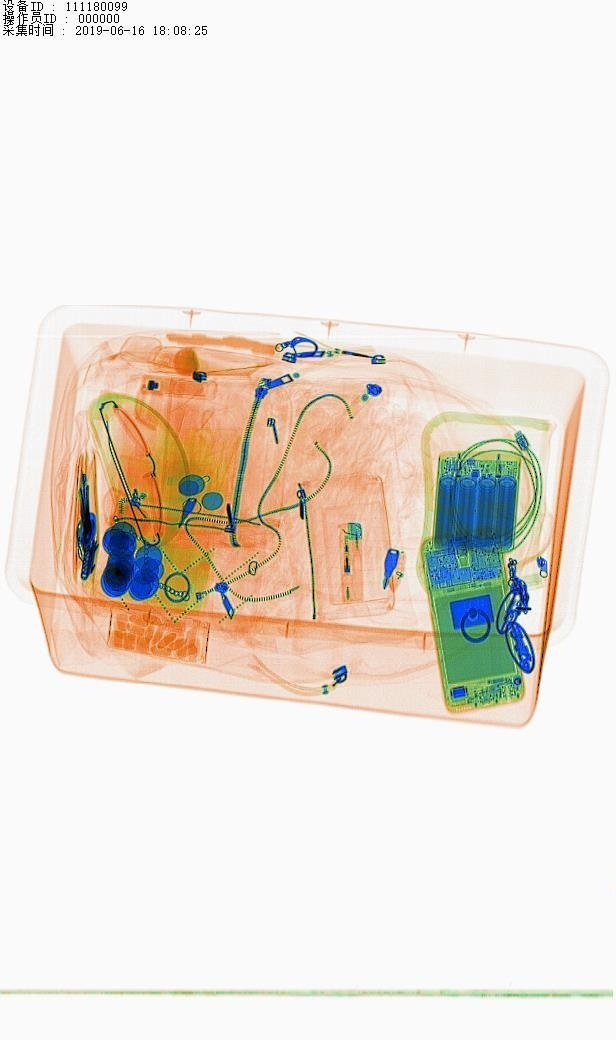NonmetallicFire: (324, 508, 393, 617)
